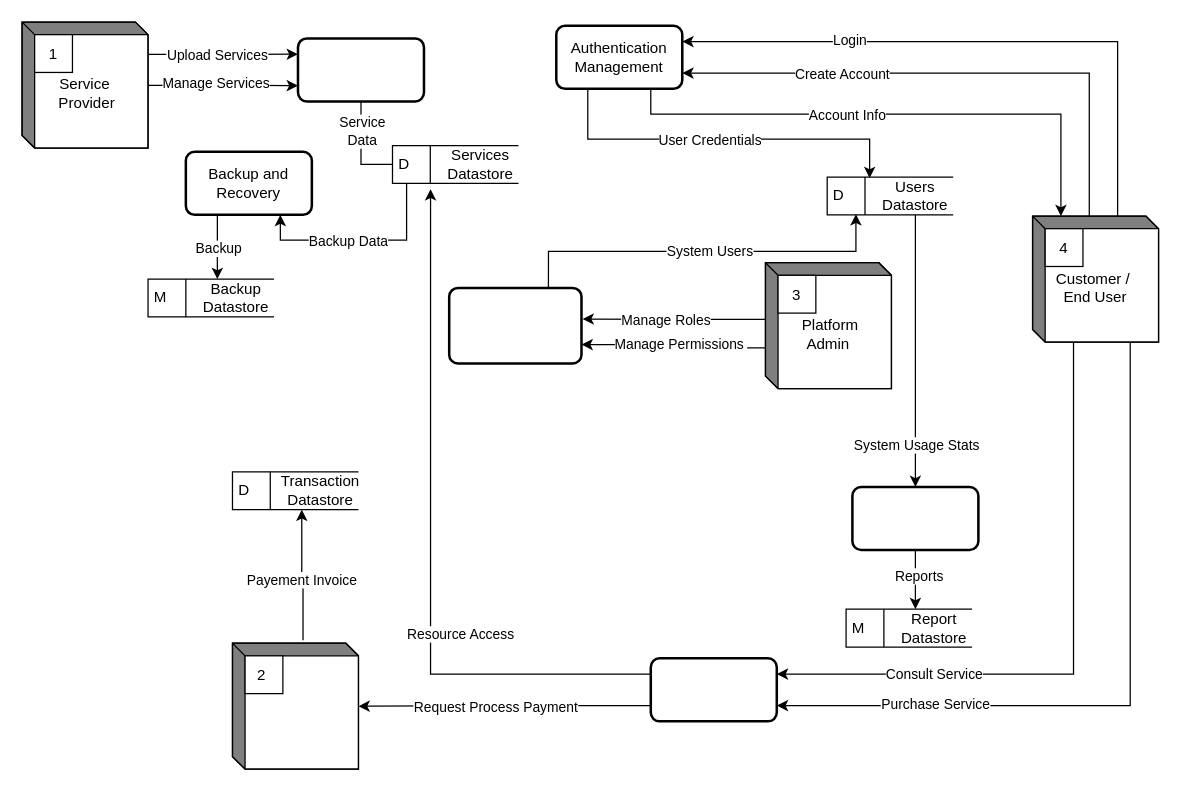
This 1181x791 diagram has some shape labels left out. The shapes that lost their labels are listed below. From the top down, each one's centre as x and y in pixels, then its label:
At point (360, 69): "Service Management".
At point (514, 325): "System Configuration and User Management".
At point (914, 518): "Statistics and Reporting".
At point (294, 705): "API Payement Gateway".
At point (713, 689): "Service Access and Purchase".
